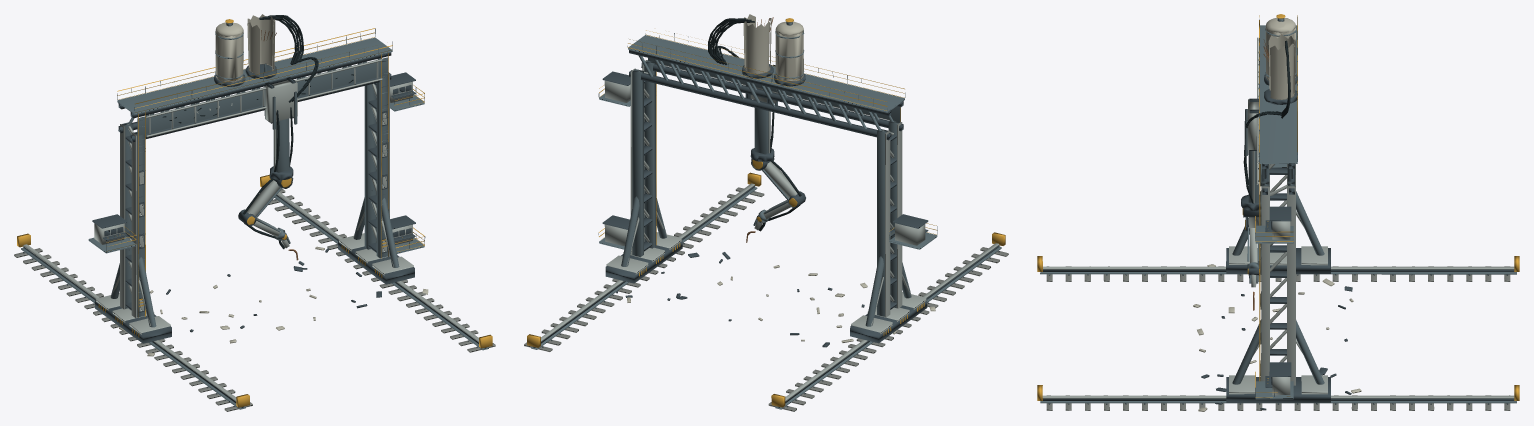
File: terraformer_3000_d2_lod1.meshopt.glb
3 renders of one model, left to right at view 1: azimuth 30°, elevation 25°; view 2: azimuth 150°, elevation 25°; view 3: azimuth 270°, elevation 25°, orthographic. The views are drawn at different scales.
Visible parts, largest first — view 1: TERRAFORMER_3000_LOD1_STATIC_GEOMETRY; view 2: TERRAFORMER_3000_LOD1_STATIC_GEOMETRY; view 3: TERRAFORMER_3000_LOD1_STATIC_GEOMETRY.
Boxes of the visible parts, left/top/right/bottom form: TERRAFORMER_3000_LOD1_STATIC_GEOMETRY: left=14, top=14, right=495, bottom=411; TERRAFORMER_3000_LOD1_STATIC_GEOMETRY: left=524, top=14, right=1008, bottom=411; TERRAFORMER_3000_LOD1_STATIC_GEOMETRY: left=1037, top=14, right=1519, bottom=411.
Size of the model in its own units: 42.04 by 35.96 by 50.59.
